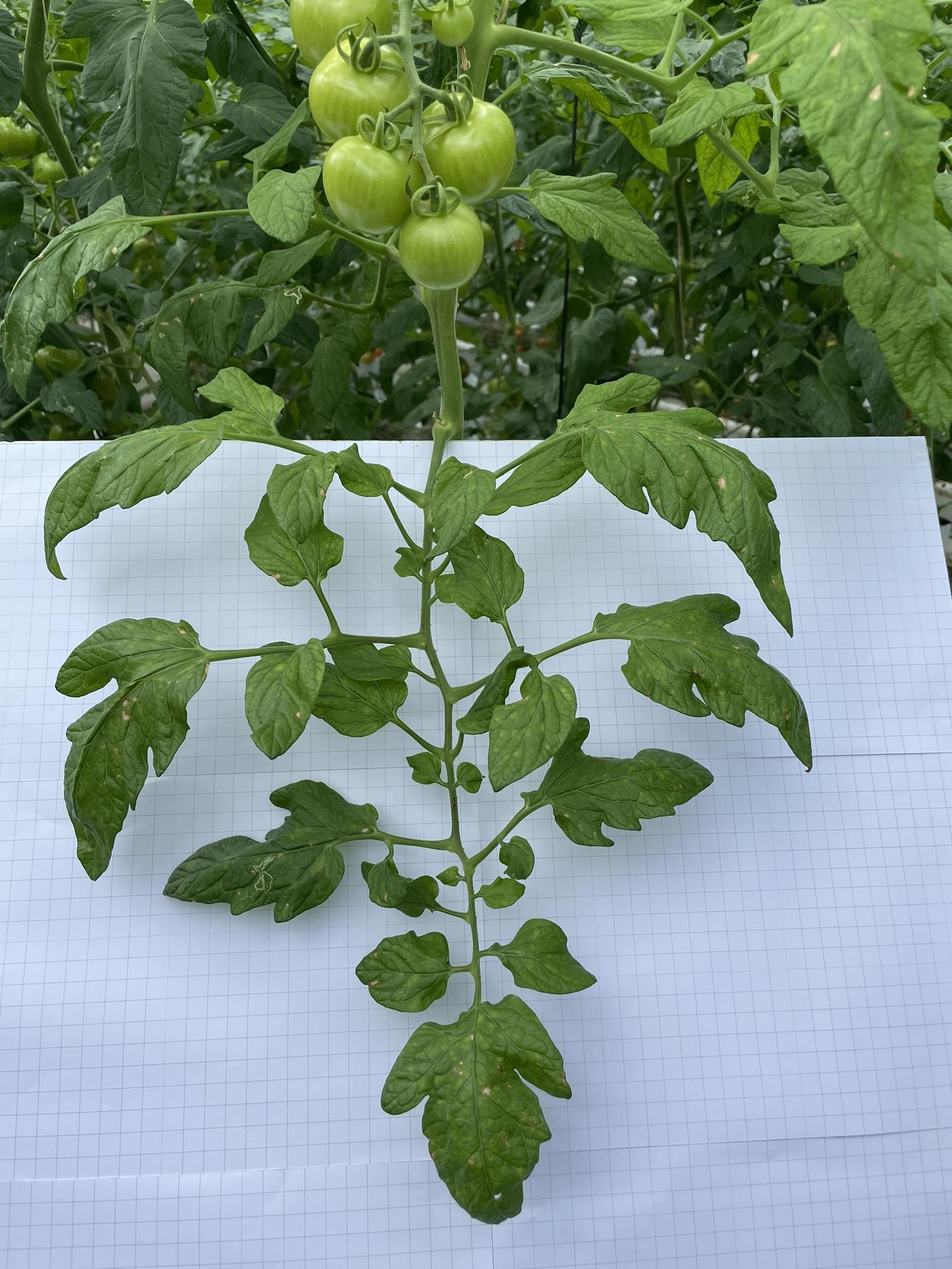Leaf_Miner: (163, 777, 378, 928)
